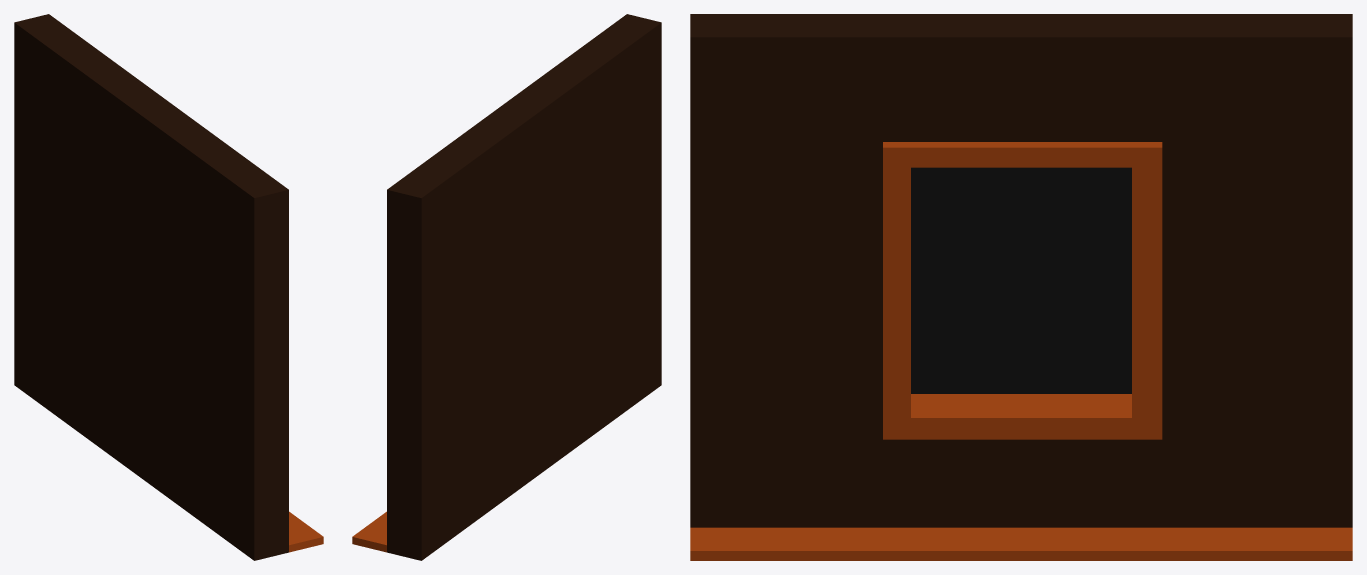
The model's file is WallWindowDetail.FBX.
3 renders of one model, left to right at view 1: azimuth 30°, elevation 25°; view 2: azimuth 150°, elevation 25°; view 3: azimuth 270°, elevation 25°, orthographic. The views are drawn at different scales.
Visible parts, largest first — view 1: WallWindowDetail; view 2: WallWindowDetail; view 3: WallWindowDetail.
Part boxes in pixels (box(x1,y1,x2,y2)): WallWindowDetail: box(14, 14, 323, 560); WallWindowDetail: box(352, 14, 661, 560); WallWindowDetail: box(690, 14, 1352, 560).
Size of the model in its own units: 0.5 by 2.5 by 3.
